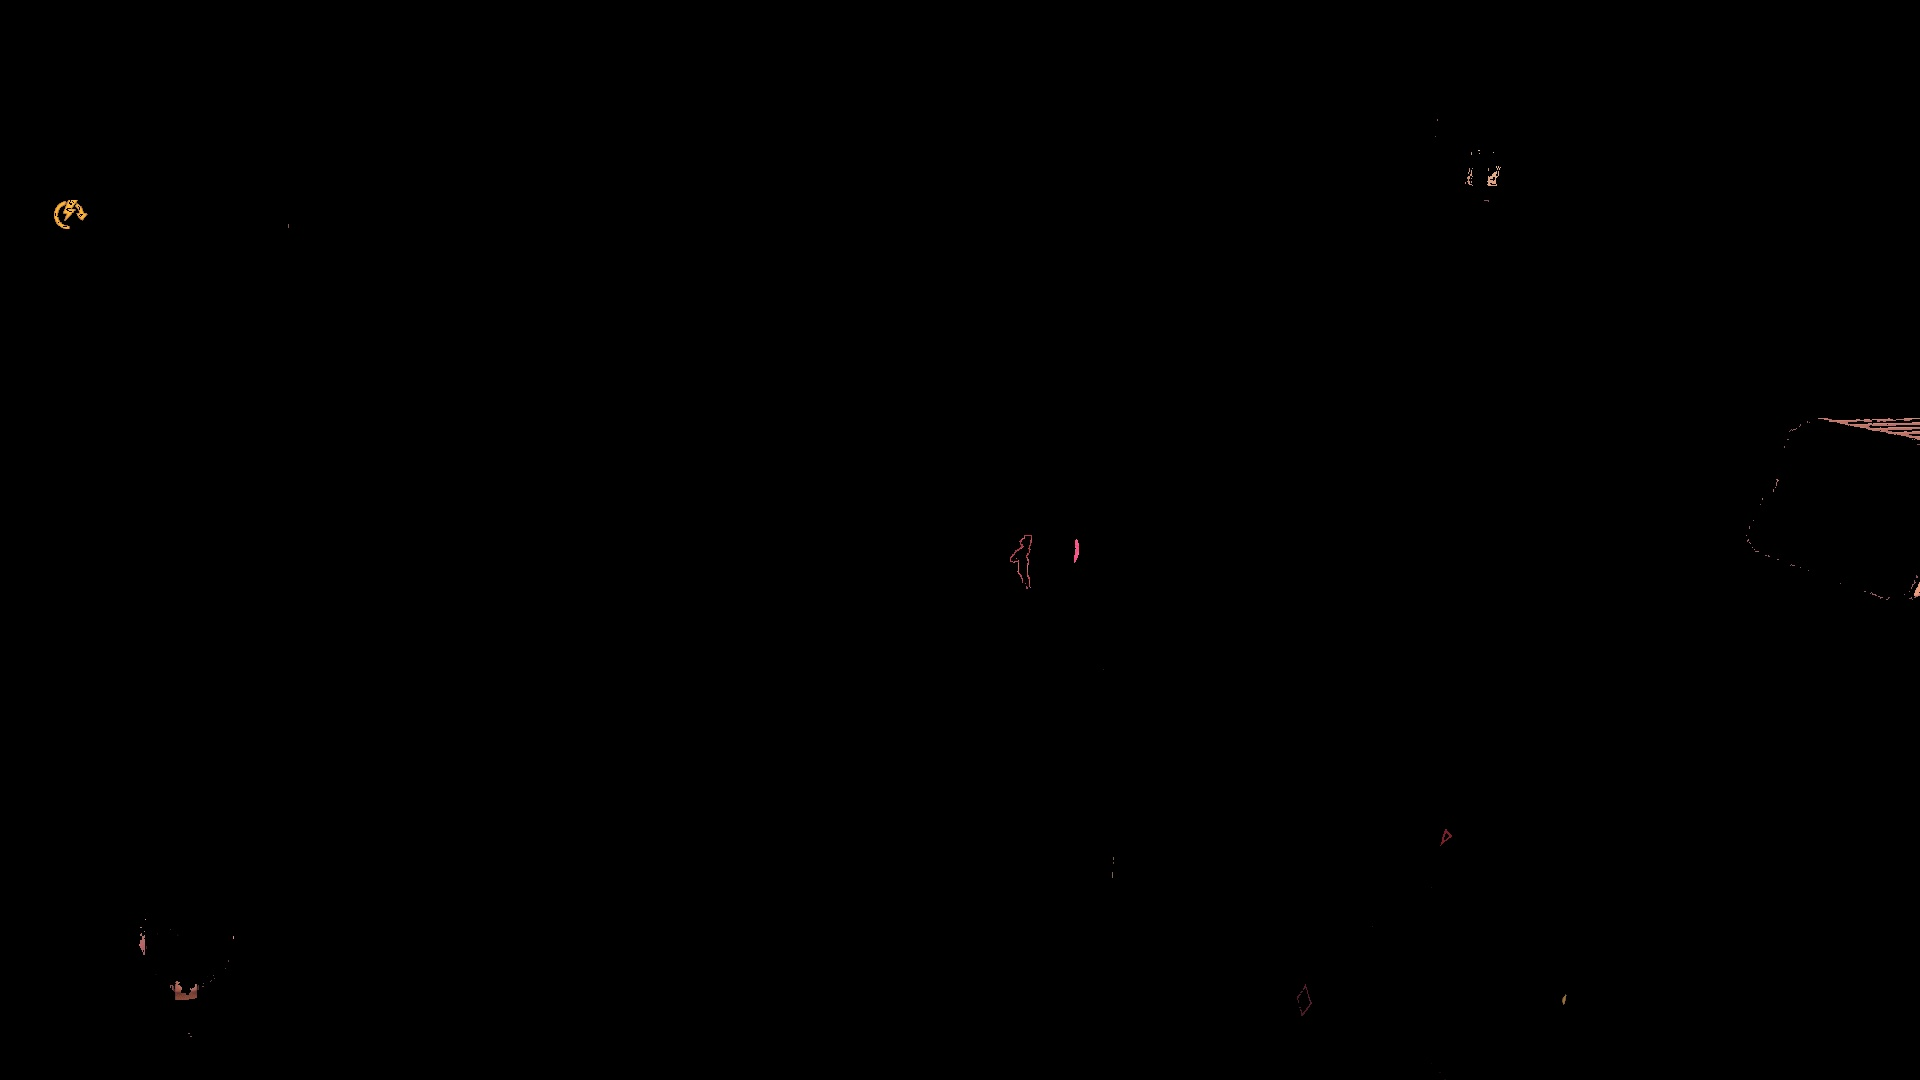widowmaker: (1017, 533, 1033, 589)
